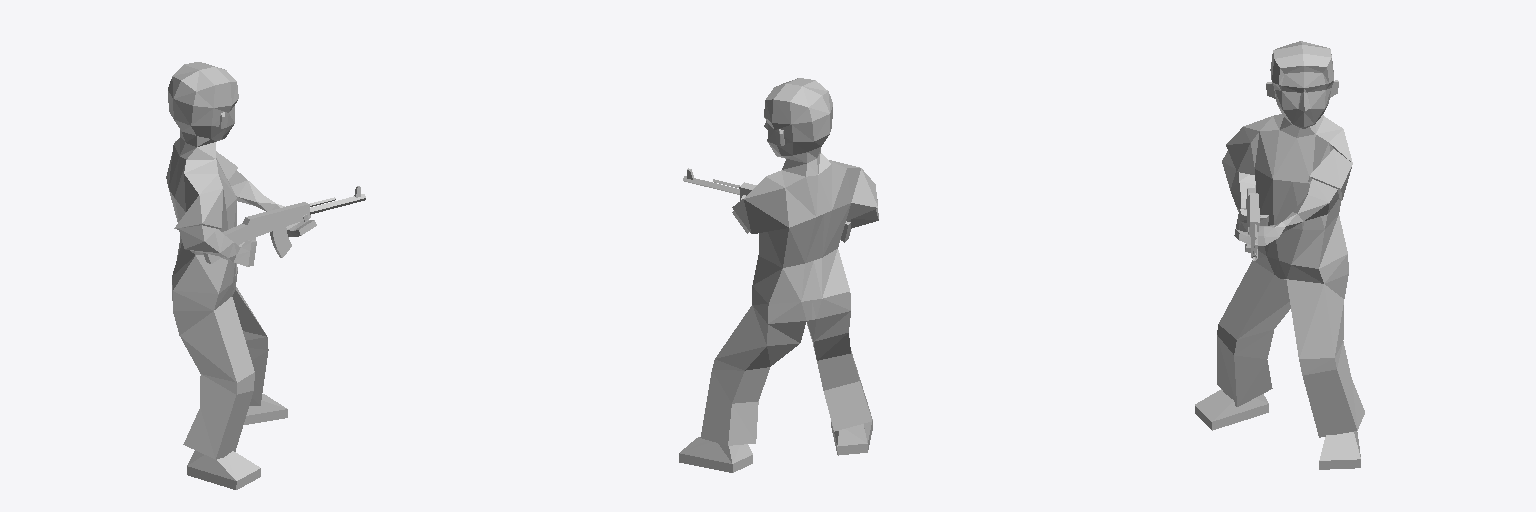
File: player_male_idle_1.obj
3 views of the same model, side by side, from view 1: azimuth 30°, elevation 25°; view 2: azimuth 150°, elevation 25°; view 3: azimuth 270°, elevation 25° (orthographic).
Size of the model in its own units: 0.9237 by 1.73 by 0.7096.